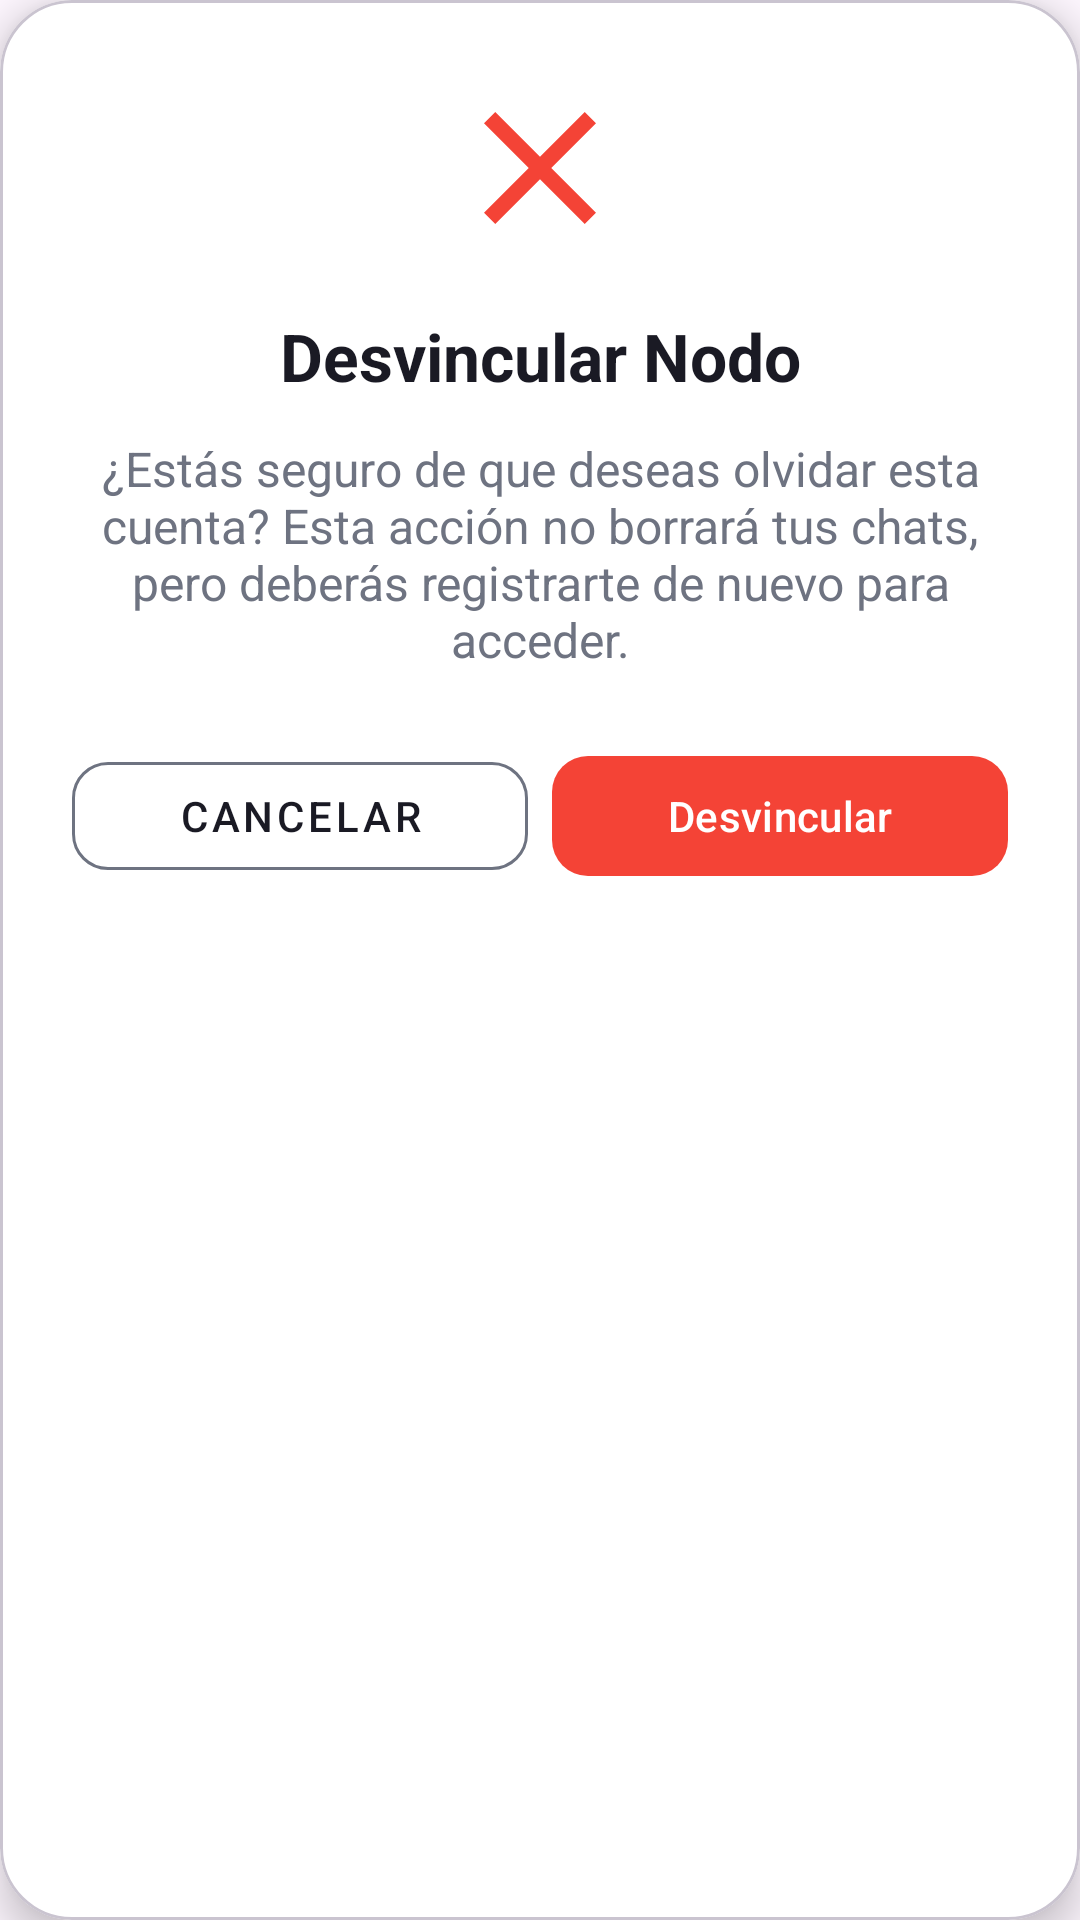

Where icons sit on this 1080px×1920px app screen, as (x1,y1,x2,y2):
close: (484,112,596,224)
